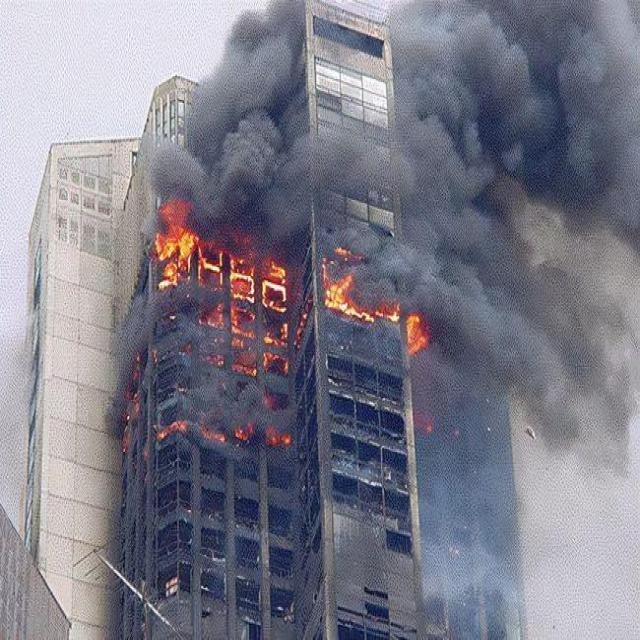Fire: (155, 202, 197, 290), (323, 268, 356, 317), (408, 310, 428, 357)
Smoke: (435, 0, 640, 469), (145, 0, 306, 186), (307, 117, 434, 253), (359, 252, 434, 309)
